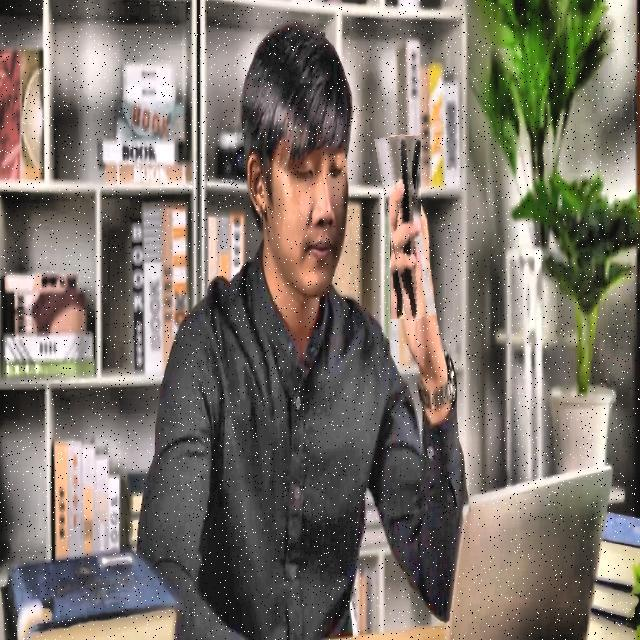Phone: (382, 134, 429, 320)
